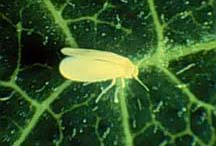Tobacco Whitefly: (53, 38, 151, 104)
